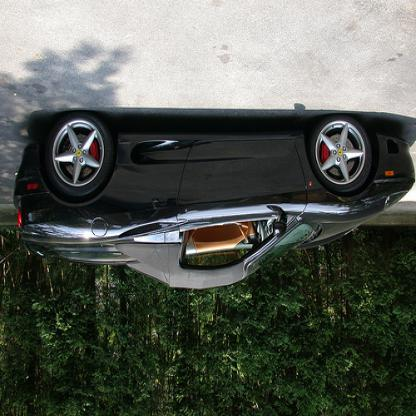car: (14, 114, 416, 292)
